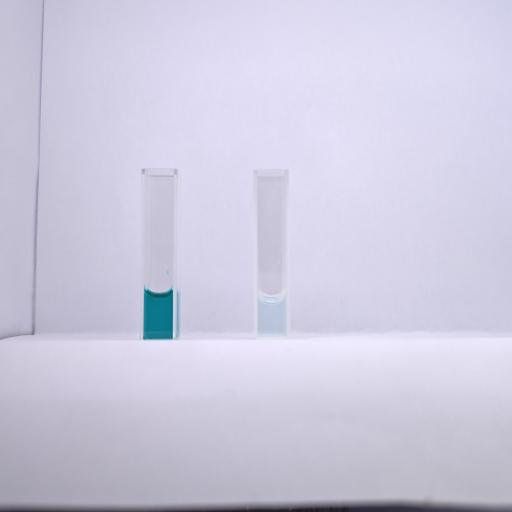cuvette: (138, 166, 180, 344), (251, 166, 292, 341)
liquid: (144, 290, 173, 339), (258, 294, 286, 334)
